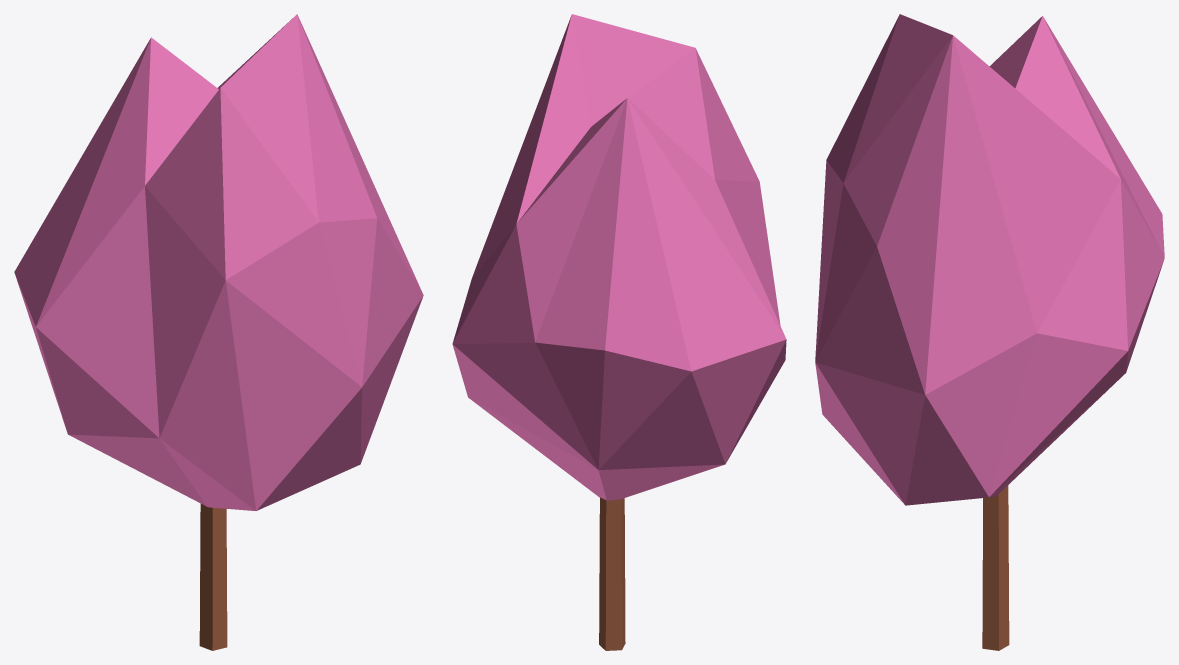
Rendered from Tulip_B.fbx.
The picture shows the model from 3 angles, left to right: view 1: azimuth 30°, elevation 25°; view 2: azimuth 150°, elevation 25°; view 3: azimuth 270°, elevation 25°; orthographic projection. The views are drawn at different scales.
Visible parts, largest first — view 1: Tulip_B_geo; view 2: Tulip_B_geo; view 3: Tulip_B_geo.
Part boxes in pixels (x1=…): Tulip_B_geo: x1=14, y1=14, x2=423, y2=650; Tulip_B_geo: x1=452, y1=14, x2=786, y2=650; Tulip_B_geo: x1=815, y1=14, x2=1164, y2=650.
Bounding box in the file's own units: 28.03 × 47.49 × 23.47.
